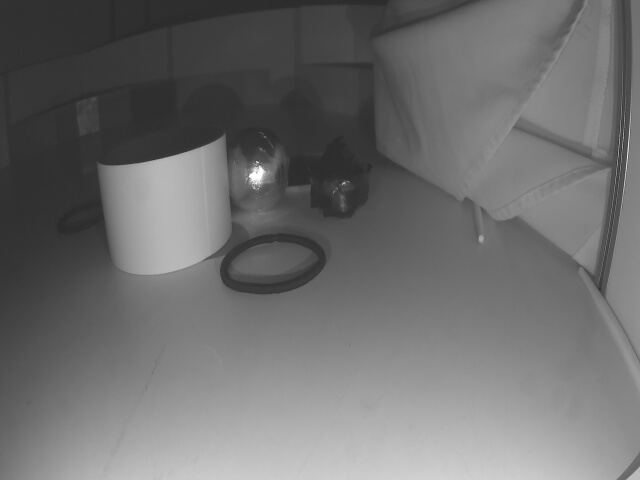Dead: (310, 140, 367, 223)
Live: (220, 125, 290, 207)
Point: (12, 80, 175, 165), (298, 65, 383, 120)
